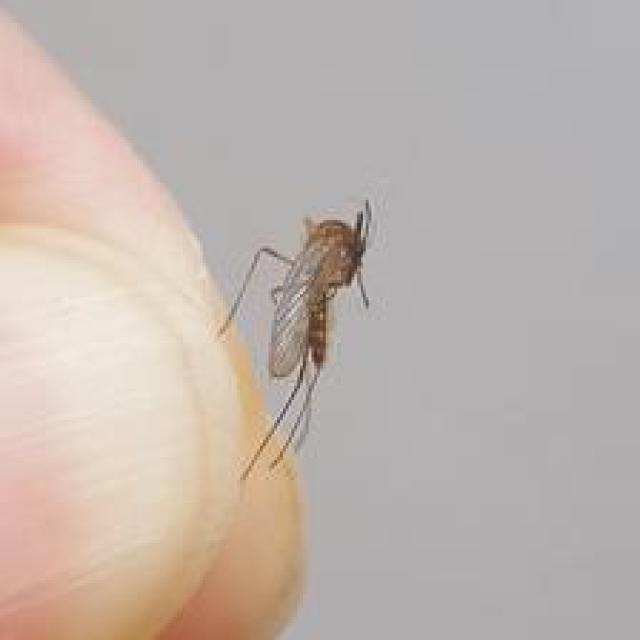Culex: (212, 197, 374, 483)
